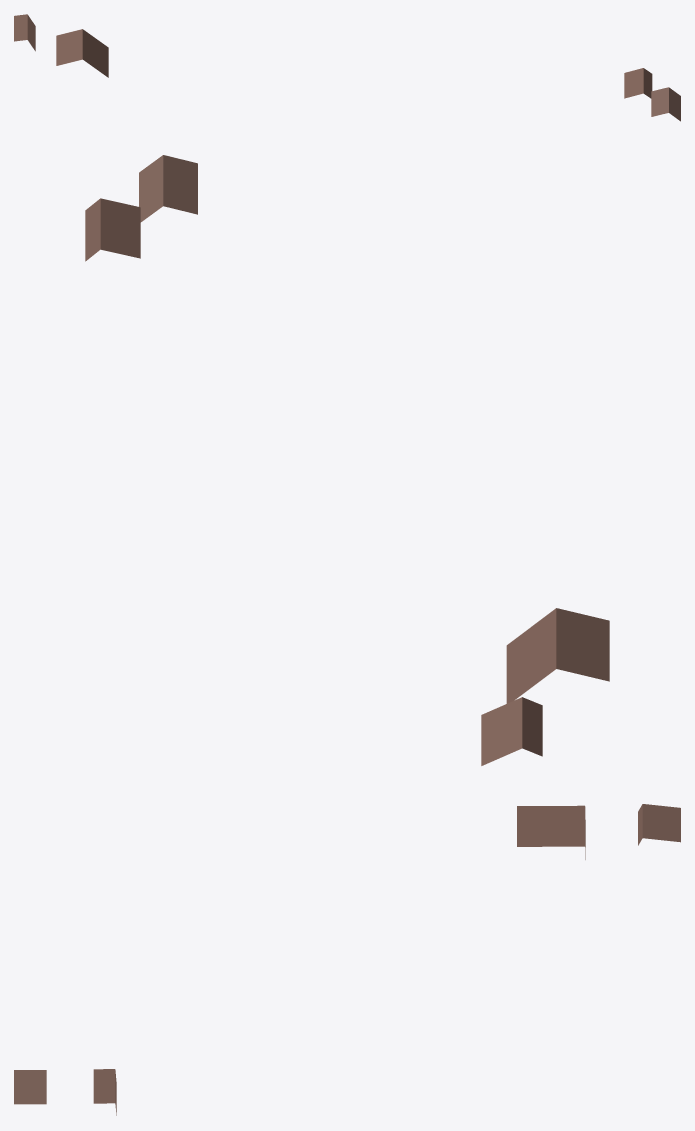
The model's file is c_1648_17828_buildings_residential.glb.
3 renders of one model, top to bottom at view 1: azimuth 30°, elevation 25°; view 2: azimuth 150°, elevation 25°; view 3: azimuth 270°, elevation 25°, orthographic. The views are drawn at different scales.
Visible parts, largest first — view 1: geometry_0; view 2: geometry_0; view 3: geometry_0.
Boxes of the visible parts, bbox=[...] form: geometry_0: bbox=[14, 14, 680, 121]; geometry_0: bbox=[85, 155, 609, 765]; geometry_0: bbox=[14, 804, 680, 1115].
Size of the model in its own units: 139 by 9.58 by 141.
